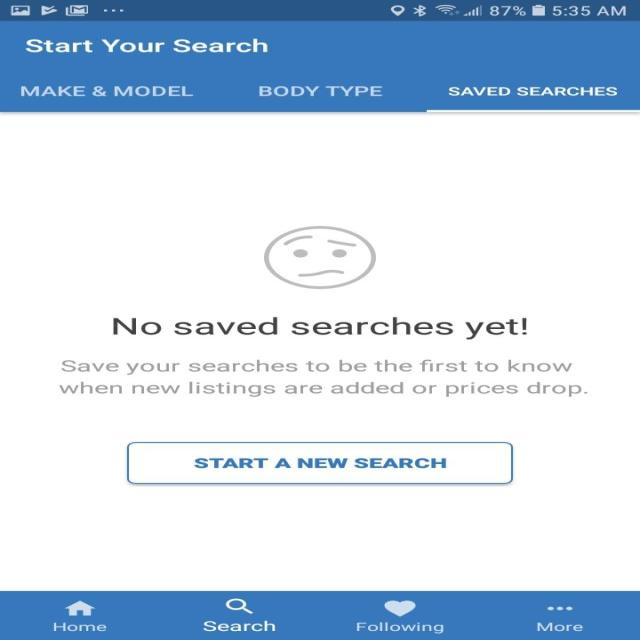Icon: (64, 599, 96, 616), (383, 600, 416, 616), (224, 597, 253, 614)
Image: (263, 225, 376, 289)
Text: (58, 358, 588, 397), (112, 316, 527, 340), (24, 38, 268, 53), (20, 85, 193, 96), (447, 87, 617, 96), (258, 85, 382, 96), (356, 621, 444, 634), (202, 620, 276, 632), (52, 621, 106, 631), (536, 622, 583, 632)
TextButton: (126, 442, 513, 484)
